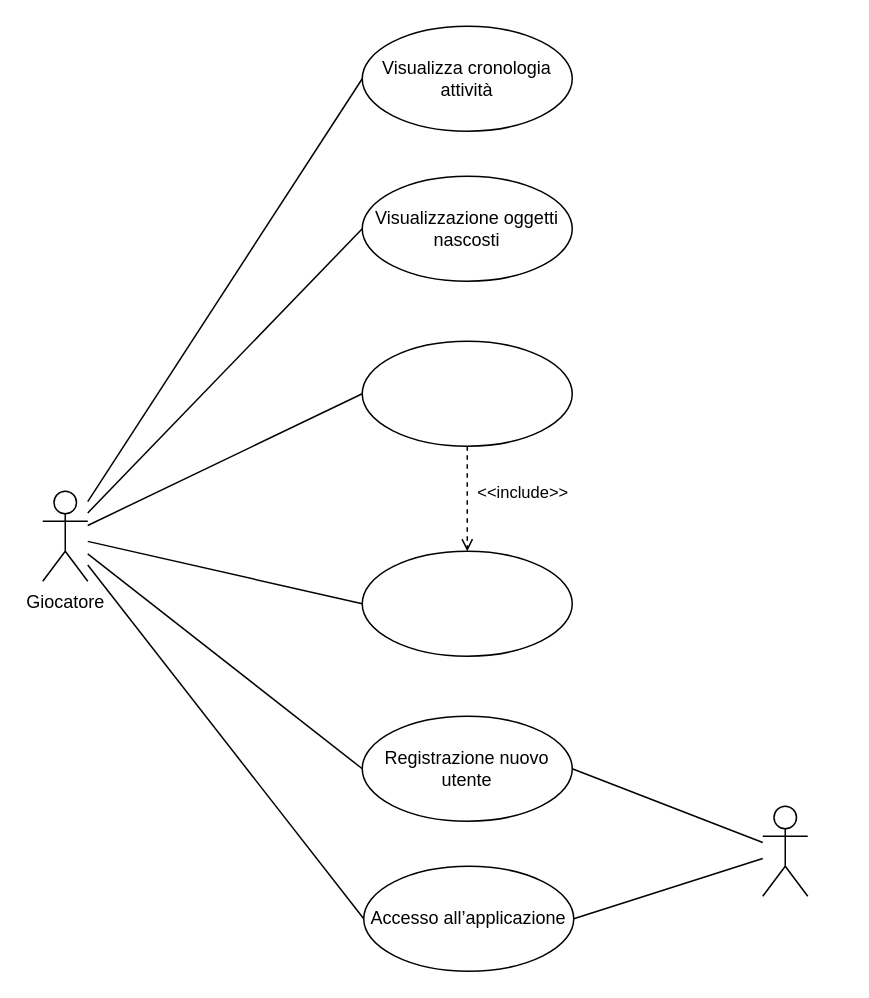
The diagram is 869 pixels wide and 998 high, and some of its shapes have lost their labels. The shapes that lost their labels are listed below. From the top down, each one's box as (x1, y1, x2, y2) in pixels, then its label:
(361, 340, 572, 446): Modifica informazioni personali
(361, 550, 572, 656): Visualizzazione informazioni personali
(761, 805, 808, 896): Servizio di autenticazione
